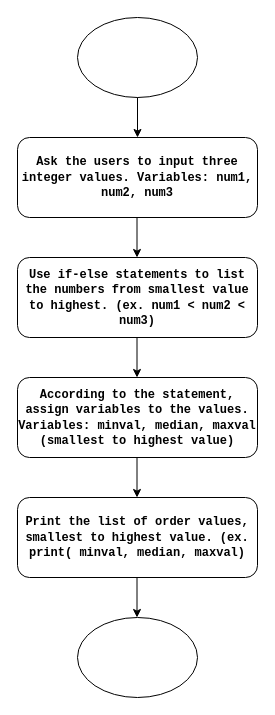
The diagram is 275 pixels wide and 715 high, and some of its shapes have lost their labels. The shapes that lost their labels are listed below. From the top down, each one's centre as x and y in pixels, then its label:
point (137, 57): Start
point (137, 657): End
